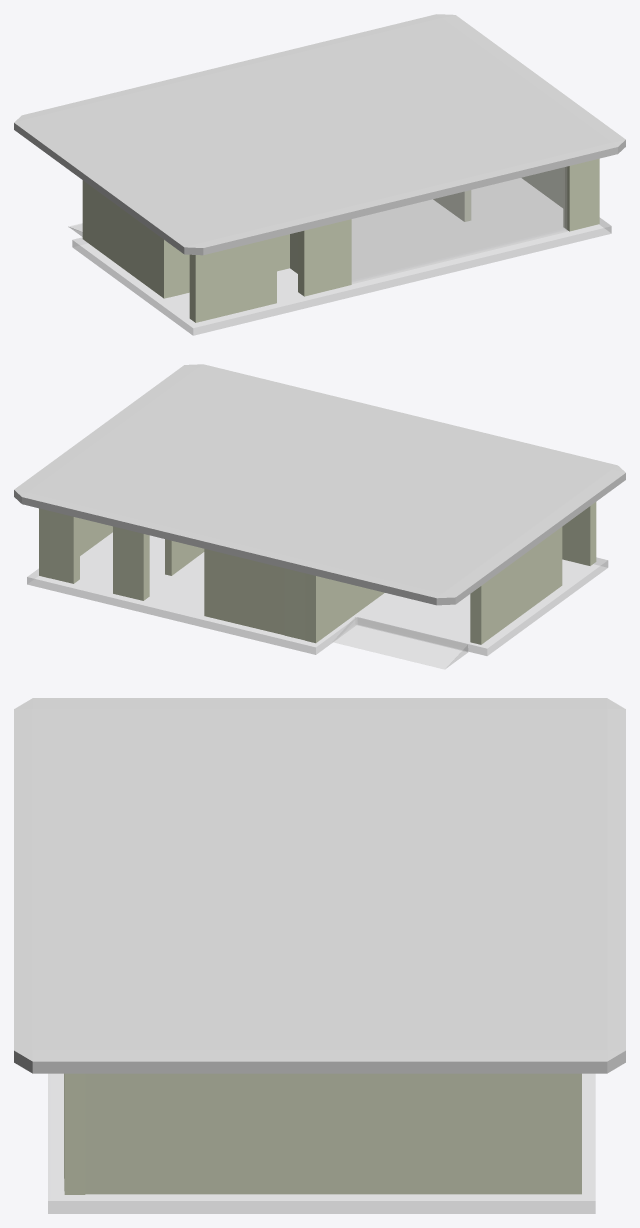
The model's file is building12.glb.
3 renders of one model, top to bottom at view 1: azimuth 30°, elevation 25°; view 2: azimuth 150°, elevation 25°; view 3: azimuth 270°, elevation 25°, orthographic. The views are drawn at different scales.
Visible parts, largest first — view 1: roof, floor, Walls, backyard-glass; view 2: roof, Walls, floor, Cube; view 3: roof, Walls, floor.
Part boxes in pixels (bbox=[...]): roof: bbox=[14, 14, 625, 255]; floor: bbox=[72, 178, 611, 335]; Walls: bbox=[82, 158, 599, 322]; backyard-glass: bbox=[352, 167, 567, 283]; roof: bbox=[14, 364, 625, 605]; Walls: bbox=[39, 502, 596, 644]; floor: bbox=[27, 532, 608, 655]; Cube: bbox=[333, 617, 468, 669]; roof: bbox=[14, 698, 625, 1073]; Walls: bbox=[64, 1073, 581, 1194]; floor: bbox=[48, 1073, 595, 1213].
Size of the model in its own units: 15.42 by 3.22 by 10.97.
